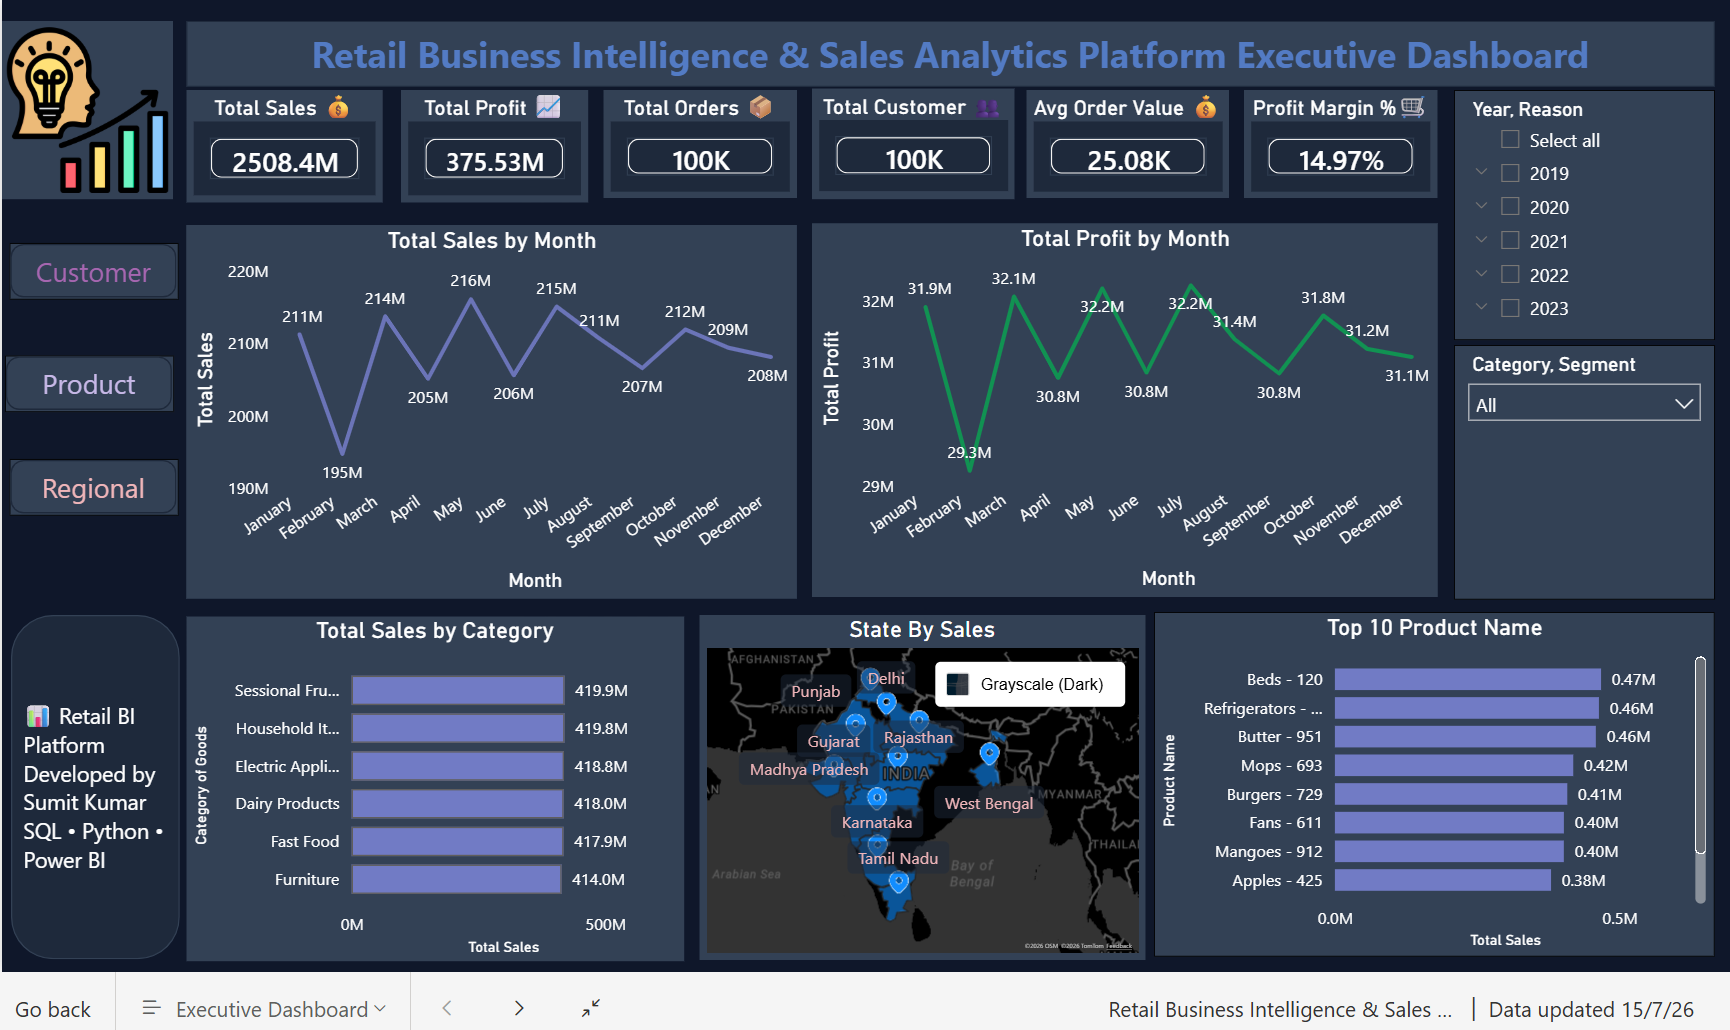

What the dashboard file says about the page in this screenshot:
{"tool":"powerbi","page":{"name":"Executive Dashboard","canvas":[1280,720],"ordinal":0},"visuals":[{"type":"cardVisual","title":"Total Sales 💰","fields":{"Data":["cleaned_data.Total Sales"]},"box":[136.7,66.7,145,83.3],"z":0},{"type":"cardVisual","title":"Total Orders 📦","fields":{"Data":["cleaned_data.Total Orders"]},"box":[445,66.7,143.3,80],"z":1000},{"type":"cardVisual","title":"Total Customer 👥","fields":{"Data":["cleaned_data.Customer Count"]},"box":[600,65,150,81.7],"z":2000},{"type":"cardVisual","title":"Avg Order Value 💰","fields":{"Data":["cleaned_data.Average Order Value"]},"box":[758.3,66.7,150,80],"z":3000},{"type":"cardVisual","title":"Profit Margin %🛒","fields":{"Data":["cleaned_data.Profit Margin %"]},"box":[920,66.7,143.3,80],"z":4000},{"type":"cardVisual","title":"Total Profit 📈","fields":{"Data":["cleaned_data.Total Profit"]},"box":[295,66.7,138.3,83.3],"z":5000},{"type":"lineChart","fields":{"Category":["cleaned_data.Order Date.Variation.Date Hierarchy.Month"],"Y":["cleaned_data.Total Sales"]},"box":[136.7,166.7,451.7,276.7],"z":6000},{"type":"lineChart","fields":{"Category":["cleaned_data.Order Date.Variation.Date Hierarchy.Month"],"Y":["cleaned_data.Total Profit"]},"box":[600,165,463.3,276.7],"z":7000},{"type":"clusteredBarChart","title":"Total Sales by Category","fields":{"Y":["cleaned_data.Total Sales"],"Category":["cleaned_data.Category of Goods"]},"box":[136.7,456.7,368.3,255],"z":8000},{"type":"azureMap","title":"State By Sales","fields":{"Category":["cleaned_data.State"]},"box":[516.7,455,330,255],"z":9000},{"type":"barChart","title":"Top 10 Product Name","fields":{"Category":["cleaned_data.Product Name"],"Y":["cleaned_data.Total Sales"]},"box":[853.3,453.3,415,255],"z":10000},{"type":"slicer","fields":{"Values":["cleaned_data.Year","cleaned_data.Region"]},"box":[1075,66.7,193.3,185],"z":11000},{"type":"slicer","fields":{"Values":["cleaned_data.Category of Goods","cleaned_data.Segment"]},"box":[1075.1,255.4,193.6,188.7],"z":12000},{"type":"textbox","box":[136.7,15,1131.7,48.3],"z":13000},{"type":"shape","box":[5,180,125,41.7],"z":14000},{"type":"image","box":[0,15,126.7,131.7],"z":15000},{"type":"shape","box":[1.7,263.3,125,41.7],"z":16000},{"type":"shape","box":[5,340,125,41.7],"z":17000},{"type":"shape","box":[7,455,125,255],"z":18000}]}

Visuals, with their boxes on the page's 1280x720 design canvas (x1, y1, x2, y2). These are canvas units, not pixel positions in the 1730x1030 screenshot, which may show the page scaled, cropped or inside an application window:
"Total Sales 💰" cardVisual: rect(137, 67, 282, 150)
"Total Orders 📦" cardVisual: rect(445, 67, 588, 147)
"Total Customer 👥" cardVisual: rect(600, 65, 750, 147)
"Avg Order Value 💰" cardVisual: rect(758, 67, 908, 147)
"Profit Margin %🛒" cardVisual: rect(920, 67, 1063, 147)
"Total Profit 📈" cardVisual: rect(295, 67, 433, 150)
lineChart - cleaned_data.Order Date.Variation.Date Hierarchy.Month x cleaned_data.Total Sales: rect(137, 167, 588, 443)
lineChart - cleaned_data.Order Date.Variation.Date Hierarchy.Month x cleaned_data.Total Profit: rect(600, 165, 1063, 442)
"Total Sales by Category" clusteredBarChart: rect(137, 457, 505, 712)
"State By Sales" azureMap: rect(517, 455, 847, 710)
"Top 10 Product Name" barChart: rect(853, 453, 1268, 708)
slicer - cleaned_data.Year x cleaned_data.Region: rect(1075, 67, 1268, 252)
slicer - cleaned_data.Category of Goods x cleaned_data.Segment: rect(1075, 255, 1269, 444)
textbox: rect(137, 15, 1268, 63)
shape: rect(5, 180, 130, 222)
image: rect(0, 15, 127, 147)
shape: rect(2, 263, 127, 305)
shape: rect(5, 340, 130, 382)
shape: rect(7, 455, 132, 710)
